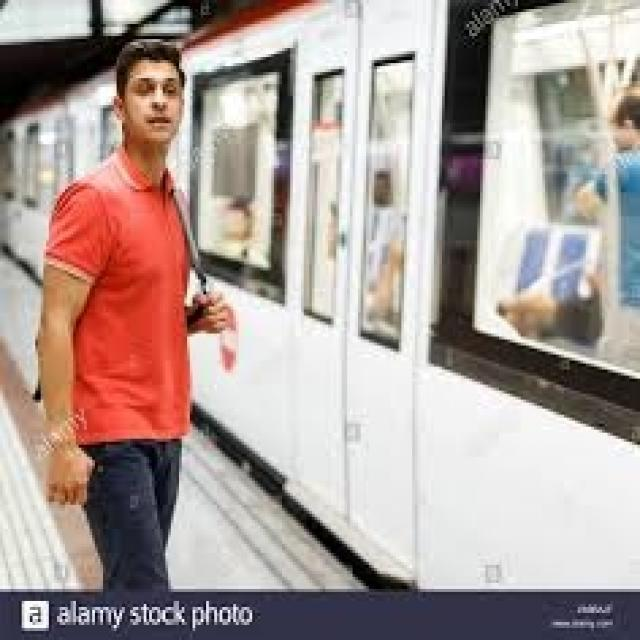walking: (19, 35, 231, 597), (577, 86, 640, 359)
